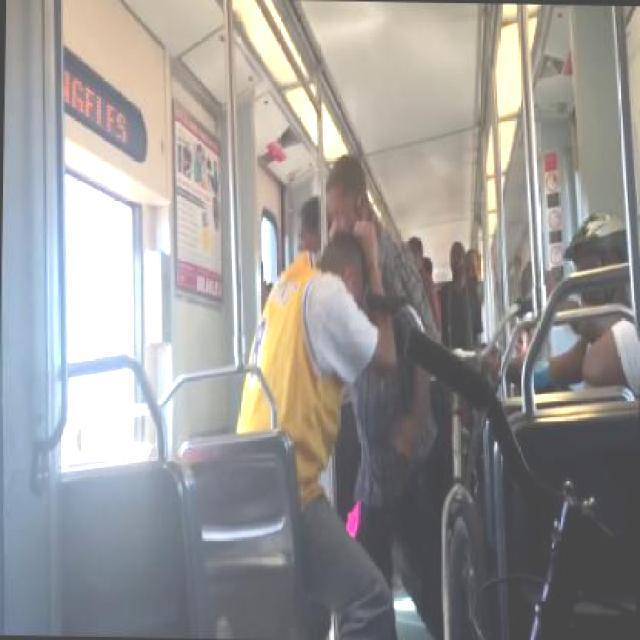fight: (240, 154, 442, 523)
